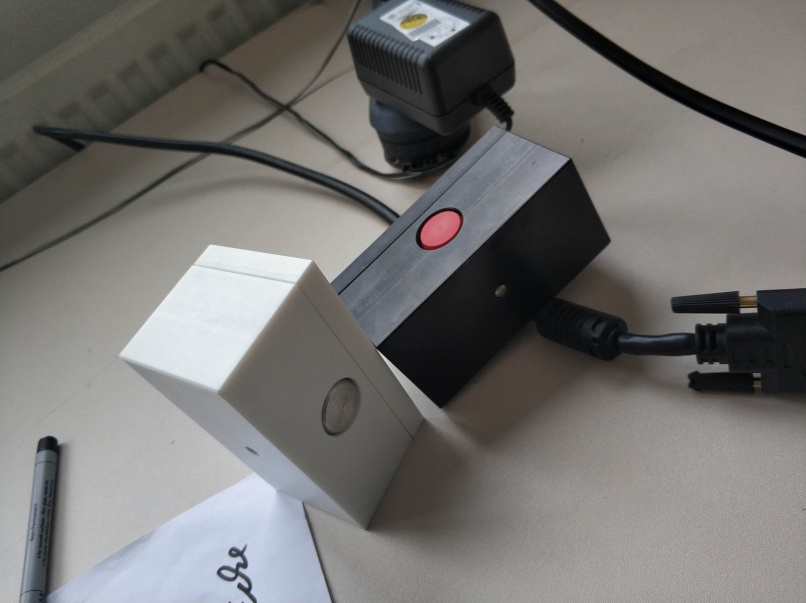black+black+red: (325, 122, 612, 410)
white+white+silver: (114, 240, 428, 533)
